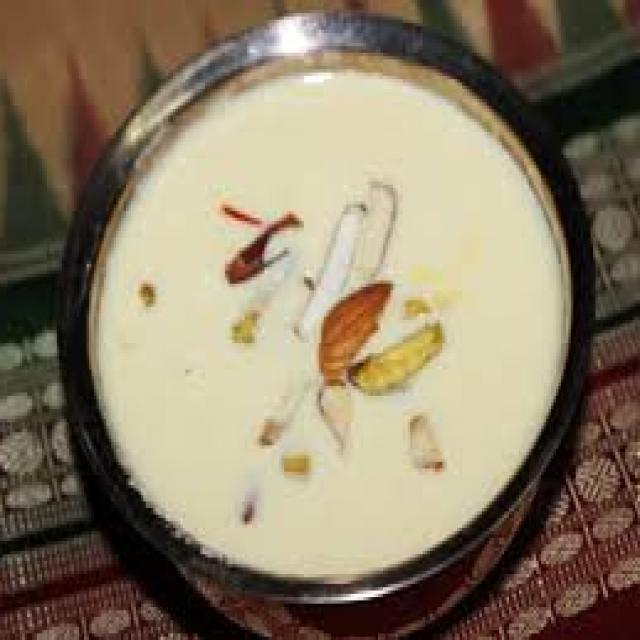Kheer: (100, 56, 548, 576)
